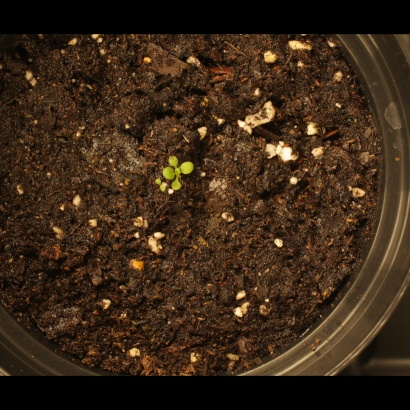leaf: (140, 164, 163, 187), (146, 187, 169, 210), (170, 178, 193, 201), (154, 165, 177, 188), (159, 146, 182, 169), (180, 159, 203, 182)
